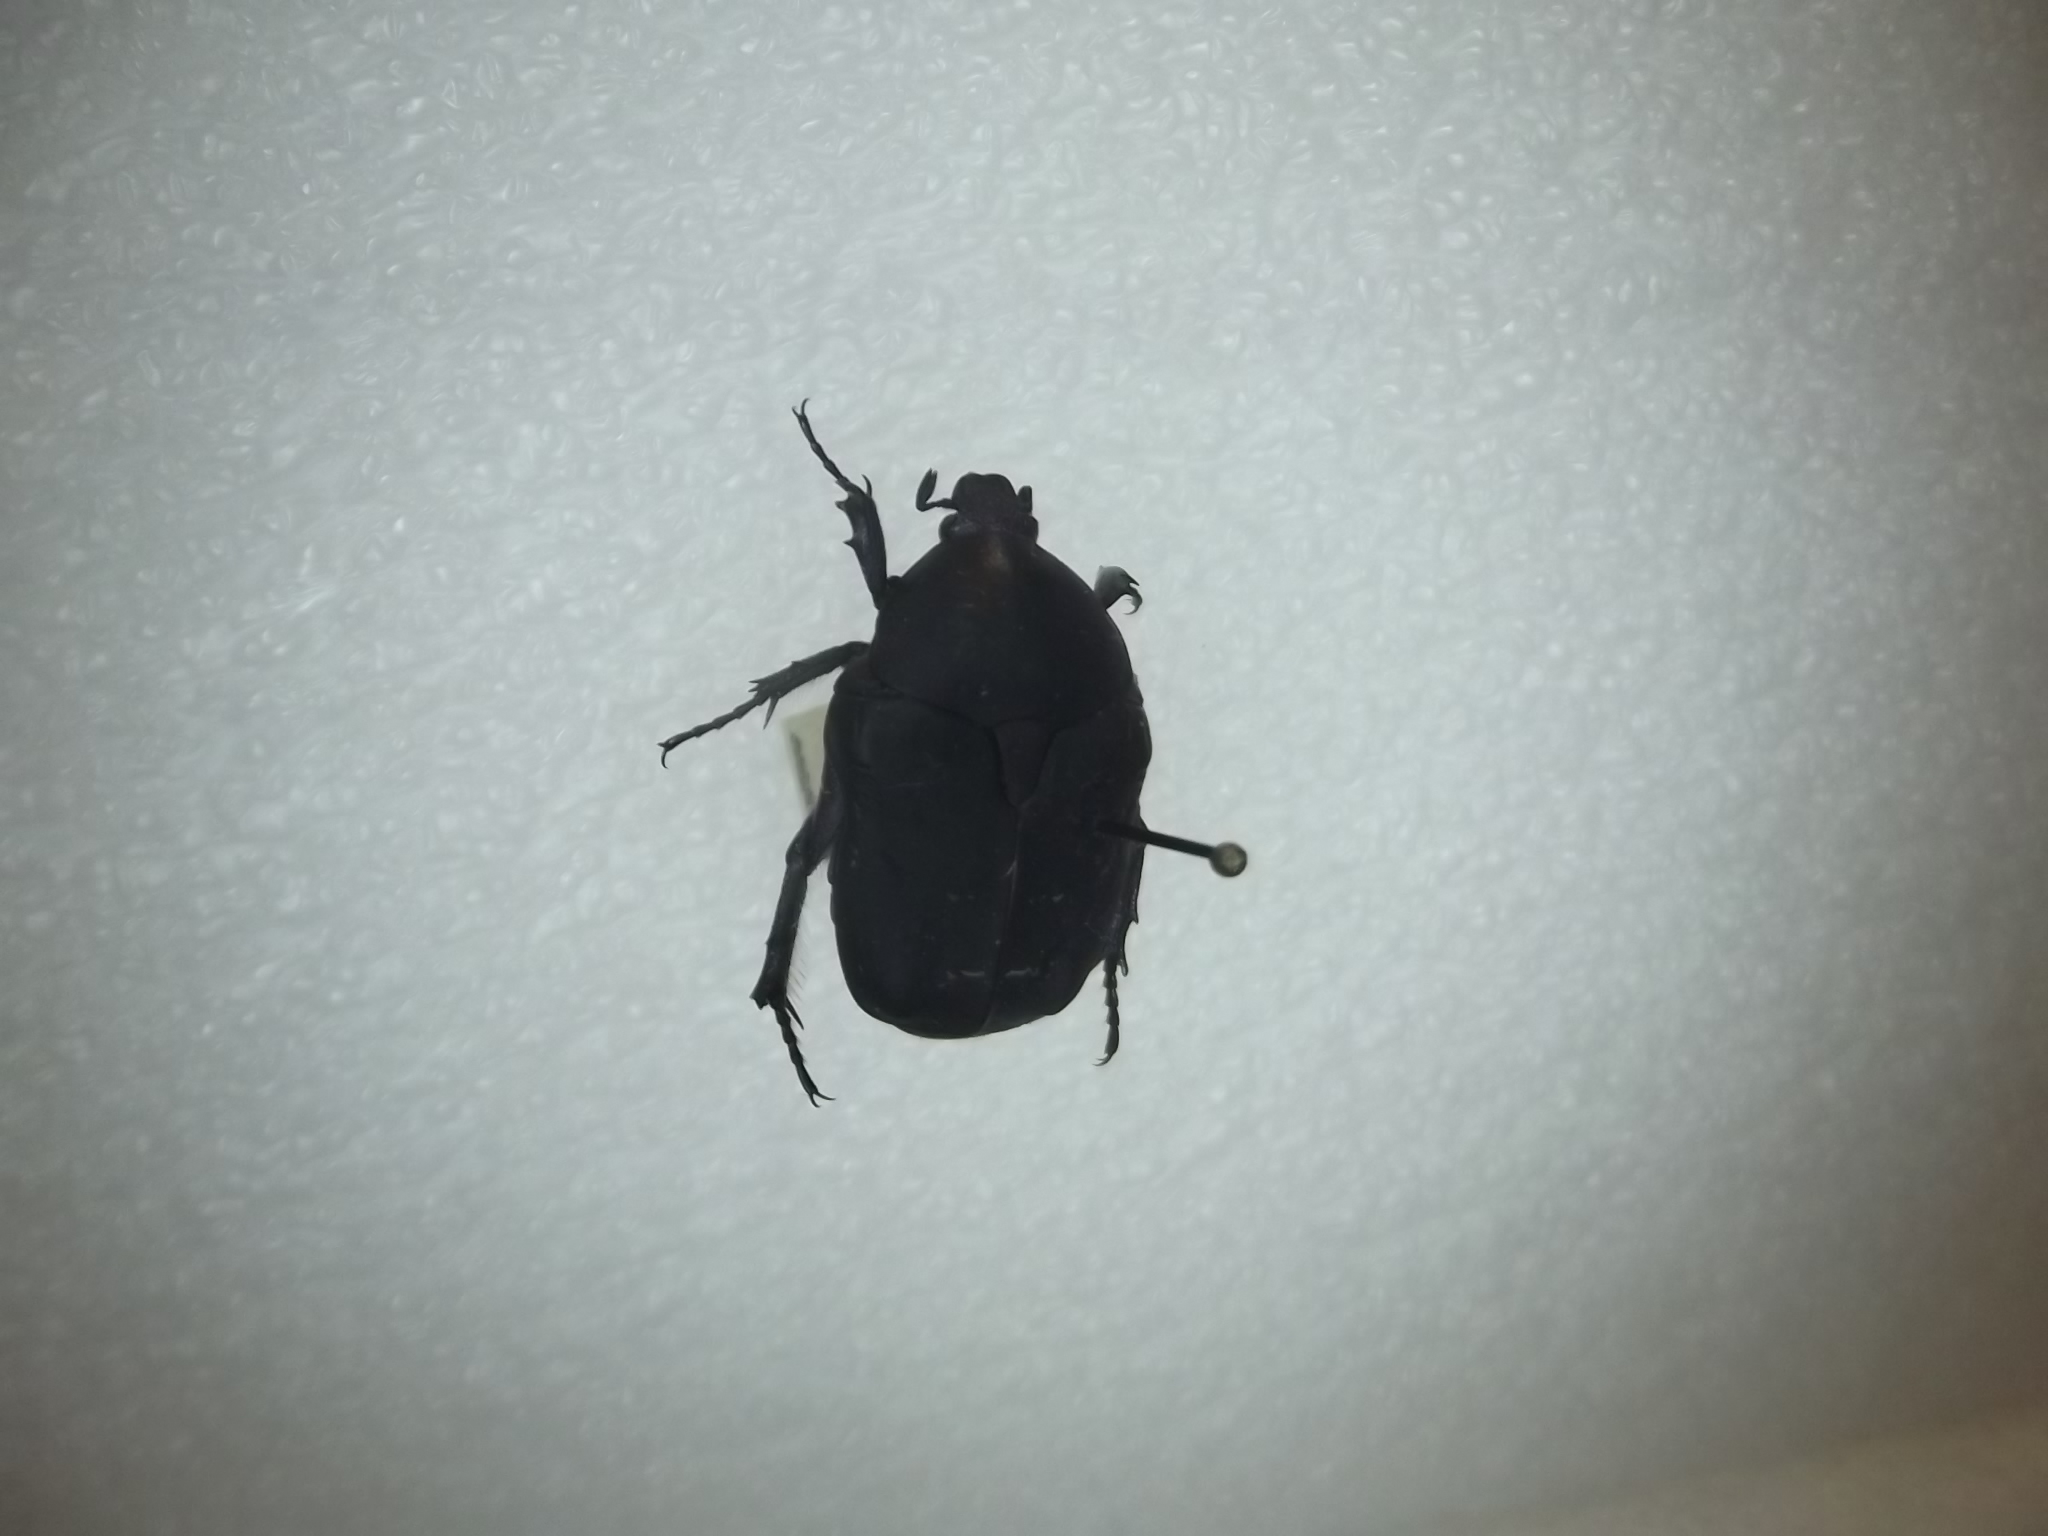Protaetia_ungarica_americana: (635, 390, 1200, 1108)
